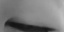RightEyeFatigue: (3, 10, 57, 32)
